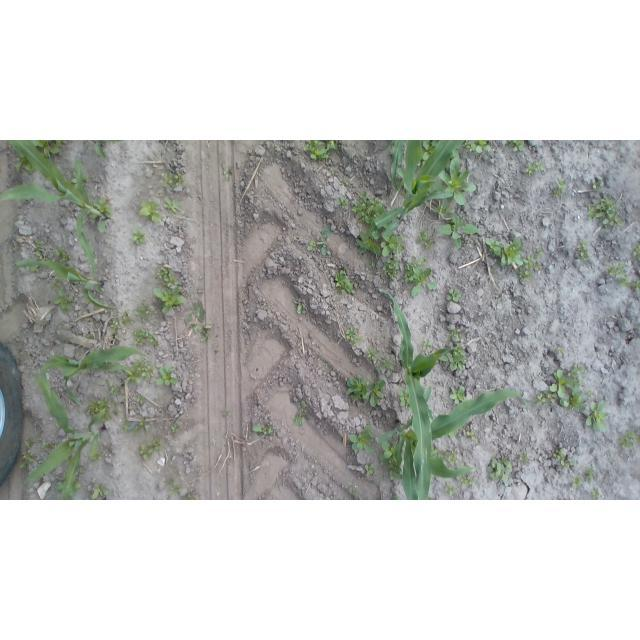Maize: (378, 289, 467, 499), (376, 388, 531, 500), (2, 140, 111, 273), (22, 373, 111, 499), (372, 141, 467, 240), (39, 345, 157, 405), (15, 257, 118, 312), (384, 141, 424, 198)
Weeds: (534, 364, 591, 413), (439, 158, 479, 206), (402, 256, 439, 299), (438, 211, 478, 249), (345, 373, 385, 409), (486, 234, 527, 269), (351, 187, 383, 225), (181, 298, 211, 338), (377, 439, 405, 479), (588, 195, 624, 226), (514, 247, 546, 280), (300, 140, 340, 166), (150, 285, 186, 313), (87, 396, 122, 424), (440, 344, 468, 377), (583, 397, 610, 431), (486, 456, 517, 485), (348, 423, 373, 456), (305, 227, 332, 257), (331, 263, 356, 295), (378, 231, 406, 257), (126, 358, 154, 384), (357, 229, 383, 256), (290, 399, 315, 427), (138, 436, 163, 461), (132, 327, 160, 349), (155, 363, 179, 388), (553, 447, 577, 472), (615, 427, 640, 449), (604, 259, 628, 281), (53, 288, 75, 311), (573, 237, 592, 263), (94, 140, 123, 157), (156, 168, 183, 186), (517, 159, 544, 176), (155, 267, 179, 286), (462, 140, 494, 154), (34, 140, 62, 156), (93, 196, 114, 217), (140, 200, 161, 221), (164, 475, 181, 500), (251, 422, 276, 439), (414, 229, 435, 248), (448, 386, 469, 405), (381, 257, 399, 279), (89, 482, 111, 500), (419, 140, 438, 160), (52, 245, 73, 263), (134, 298, 150, 321), (18, 452, 38, 470), (163, 198, 182, 215), (553, 176, 568, 197), (464, 426, 481, 444), (447, 447, 462, 467), (506, 140, 527, 154), (130, 229, 147, 246), (377, 357, 395, 373), (134, 417, 149, 436), (292, 297, 307, 316), (443, 481, 459, 498), (344, 326, 360, 343), (434, 202, 452, 217), (397, 385, 409, 407), (222, 162, 235, 182), (447, 326, 463, 342), (446, 287, 463, 302), (105, 383, 123, 396), (33, 239, 44, 260), (363, 344, 377, 360), (620, 280, 640, 291), (460, 475, 478, 487), (119, 309, 133, 323), (336, 195, 350, 209), (49, 277, 63, 290), (592, 177, 605, 191), (362, 463, 375, 477), (516, 450, 531, 462), (87, 449, 103, 460), (632, 242, 640, 264), (588, 485, 600, 498), (42, 444, 55, 455), (183, 490, 197, 500), (573, 474, 581, 491), (367, 255, 378, 267), (24, 438, 35, 450), (553, 346, 566, 356), (423, 340, 433, 353), (170, 423, 180, 435), (121, 418, 131, 430), (583, 466, 593, 478), (110, 321, 123, 330), (28, 268, 40, 275), (135, 394, 145, 402), (321, 358, 329, 368), (347, 485, 354, 496), (343, 176, 350, 186), (447, 431, 457, 438), (390, 493, 399, 500), (225, 408, 231, 418), (78, 467, 86, 473), (101, 379, 108, 385), (87, 333, 93, 340), (329, 168, 335, 175)
